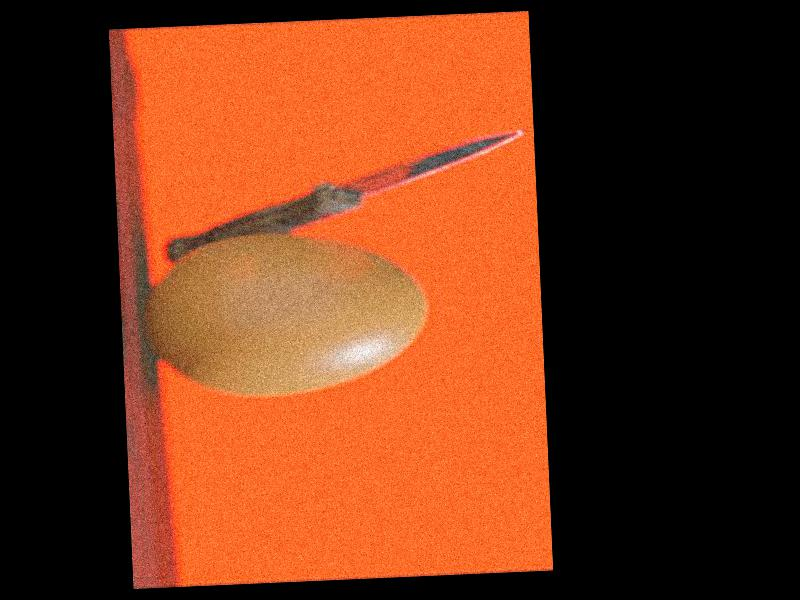Eggs: (147, 228, 427, 398)
